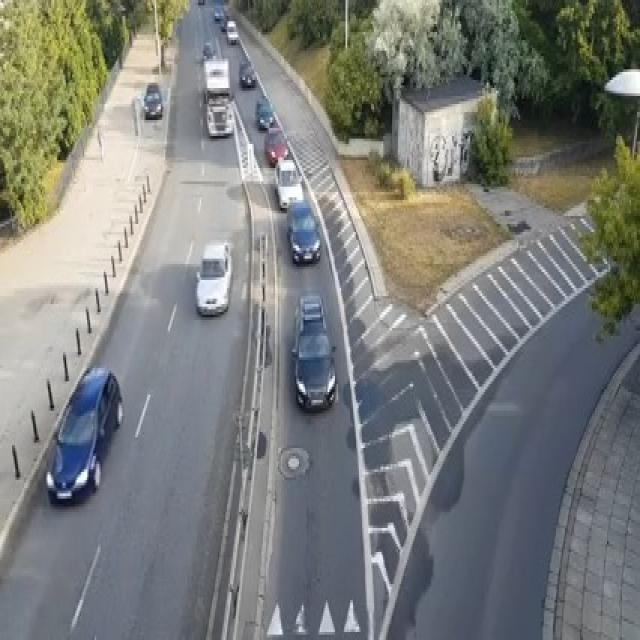car: (45, 365, 123, 504), (290, 293, 336, 411), (194, 240, 231, 315), (285, 200, 320, 264), (274, 157, 304, 208), (206, 96, 233, 136), (263, 126, 288, 166), (141, 83, 162, 117), (256, 96, 274, 128), (239, 59, 255, 88), (225, 18, 238, 42), (201, 40, 215, 59), (213, 3, 224, 21), (220, 11, 228, 29), (196, 0, 204, 5)
